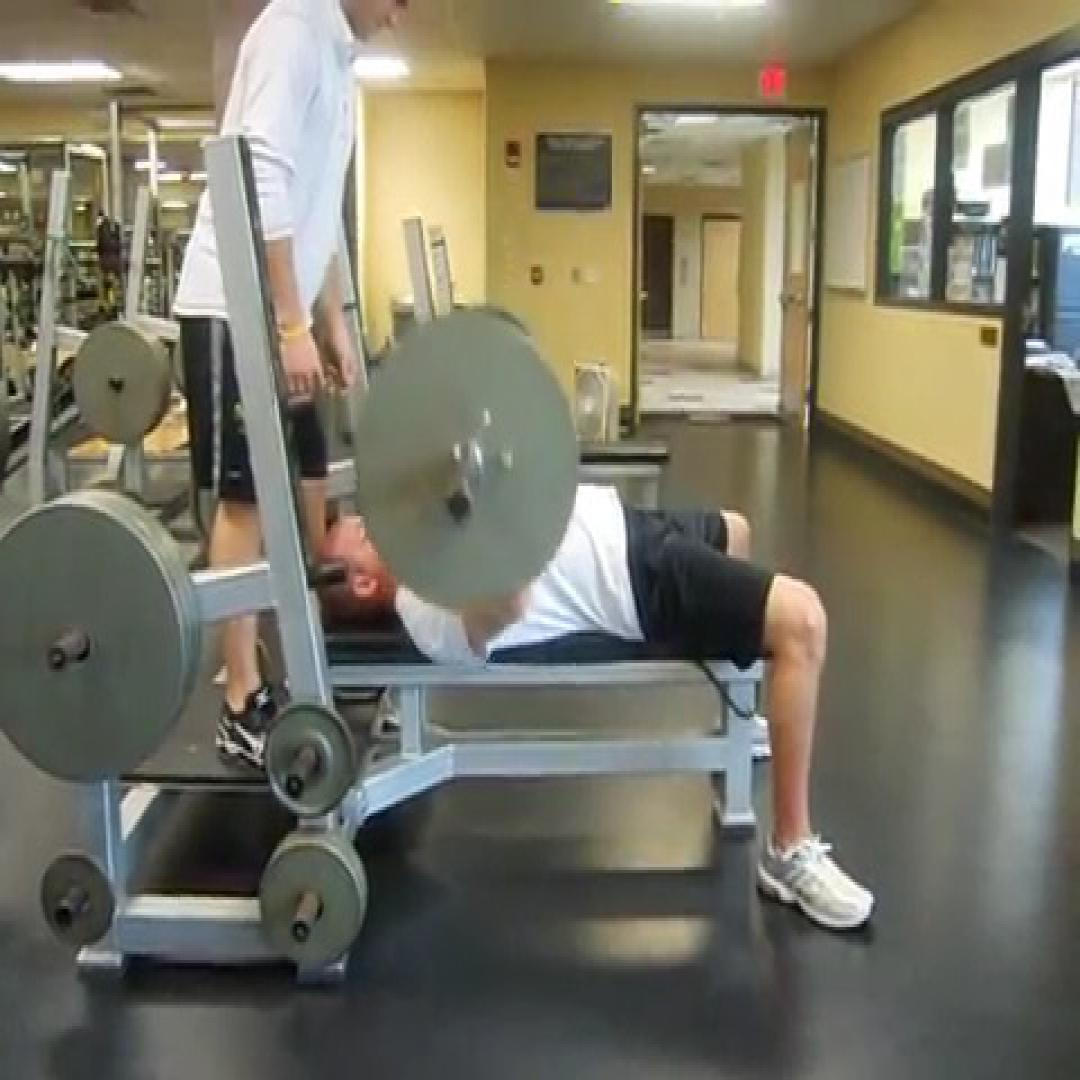Bar: (441, 480, 477, 528)
Barbell: (353, 309, 578, 606)
